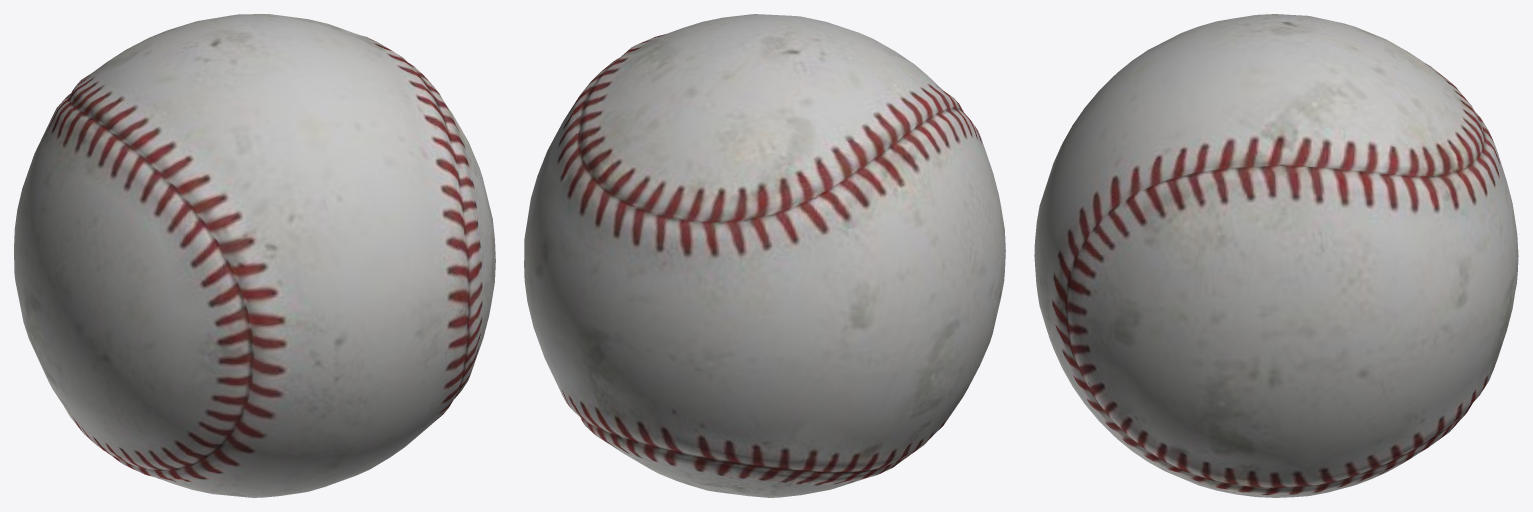
Rendered from baseball_01.glb.
The picture shows the model from 3 angles, left to right: view 1: azimuth 30°, elevation 25°; view 2: azimuth 150°, elevation 25°; view 3: azimuth 270°, elevation 25°; orthographic projection.
Parts seen in each view (by area): view 1: baseball_01; view 2: baseball_01; view 3: baseball_01.
Boxes of the visible parts, left/top/right/bottom form: baseball_01: left=14, top=14, right=495, bottom=497; baseball_01: left=524, top=14, right=1005, bottom=497; baseball_01: left=1034, top=14, right=1518, bottom=497.
Bounding box in the file's own units: 0.0735 × 0.0753 × 0.0752.
1 material, 1 textured.
